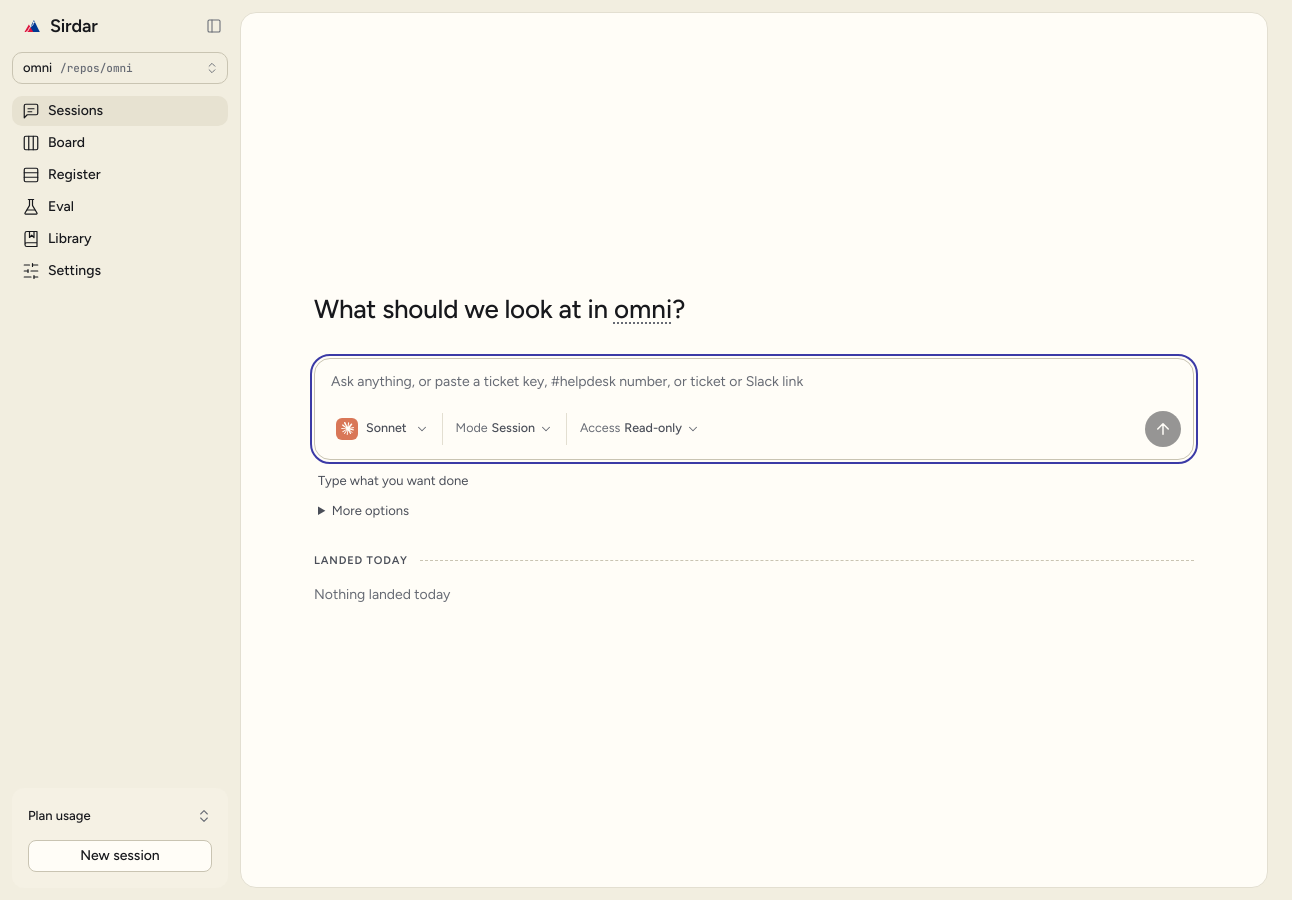
Test: New session › opens on New session when a fresh window finds a workspace with no runs
The image size is (1292, 900).
Check: the heading "What should we look at in omni ?" is shown, box [314,294,685,326]
// Decided once: the board stays the board afterwards.
Click the button "Board". click: (120, 143)
box: [12,128,228,158]
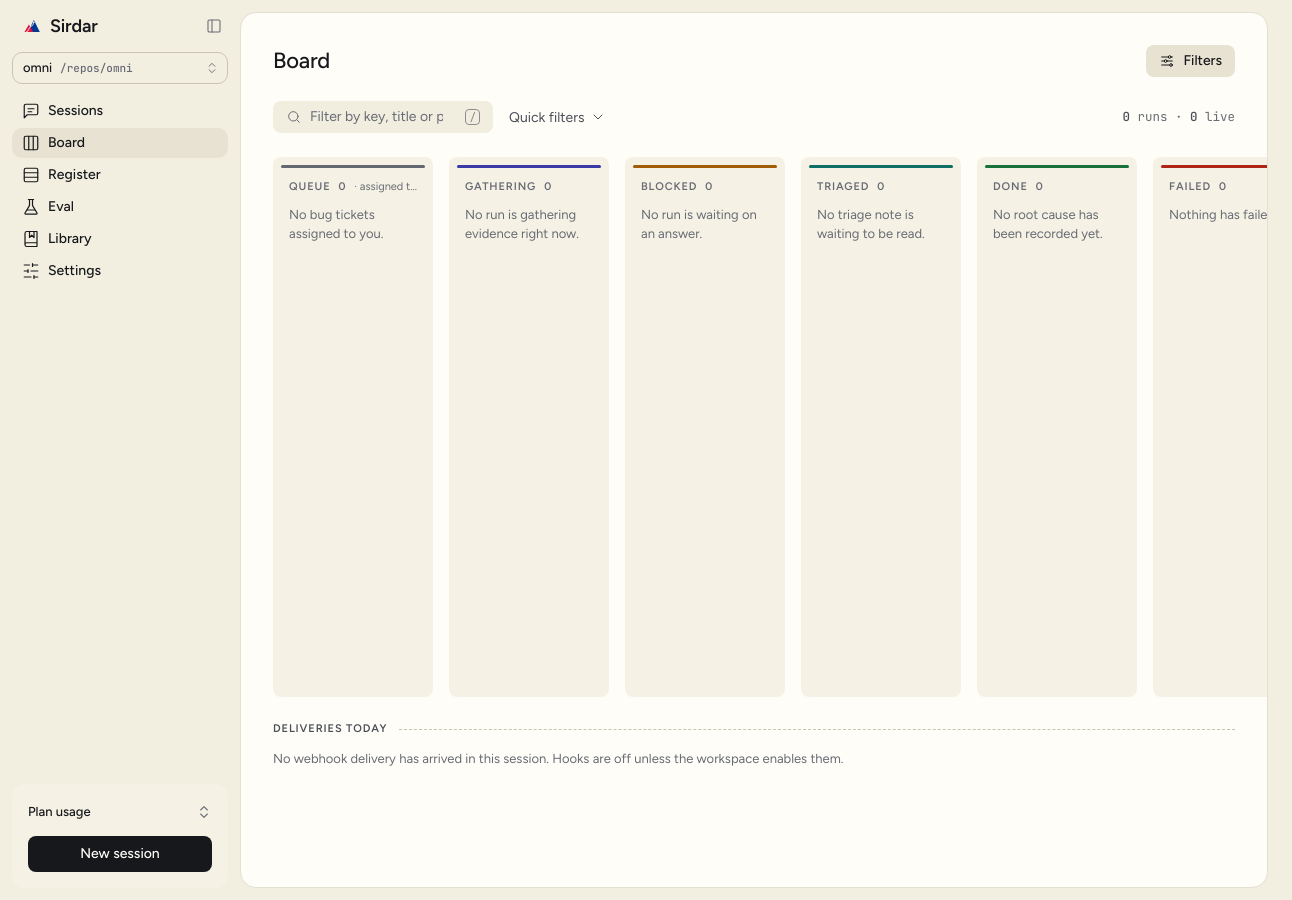
Check: the heading "Queue 0 · assigned to you" is shown, box [289,180,433,193]
